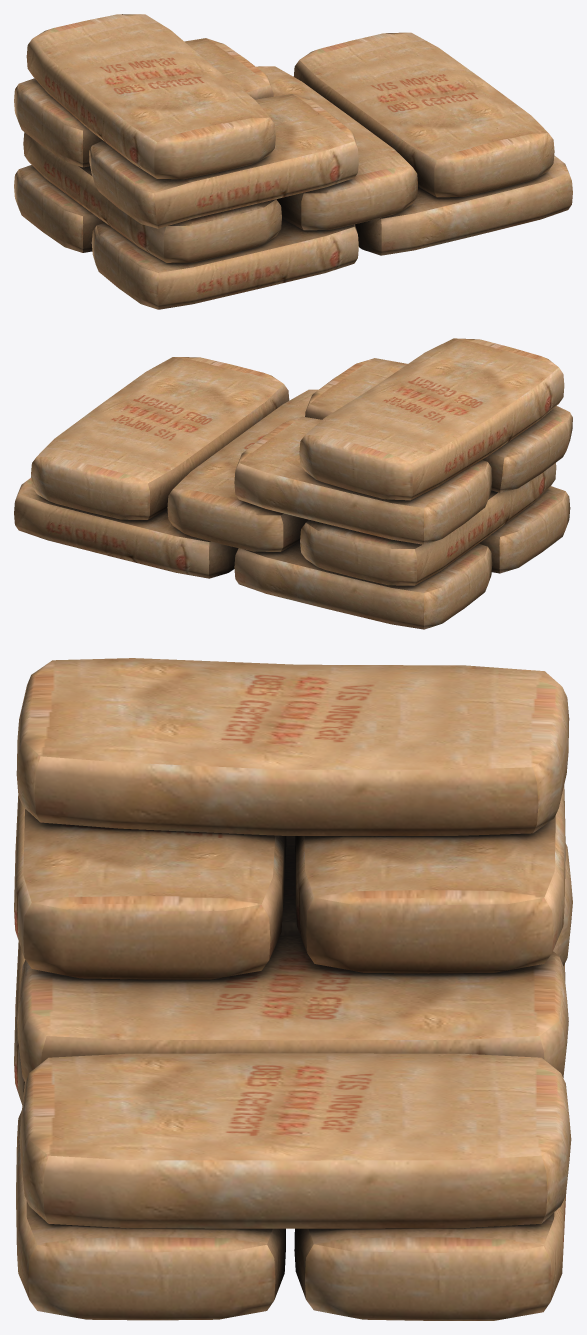
The model's file is concretePallet_singles00.FBX.
The picture shows the model from 3 angles, top to bottom: view 1: azimuth 30°, elevation 25°; view 2: azimuth 150°, elevation 25°; view 3: azimuth 270°, elevation 25°; orthographic projection. The views are drawn at different scales.
Parts seen in each view (by area): view 1: concretePallet_singles00; view 2: concretePallet_singles00; view 3: concretePallet_singles00.
Part boxes in pixels (left/top/right/bottom): concretePallet_singles00: left=14, top=14, right=572, bottom=309; concretePallet_singles00: left=14, top=338, right=572, bottom=629; concretePallet_singles00: left=14, top=658, right=572, bottom=1320.
Bounding box in the file's own units: 137 × 51.23 × 84.66.
